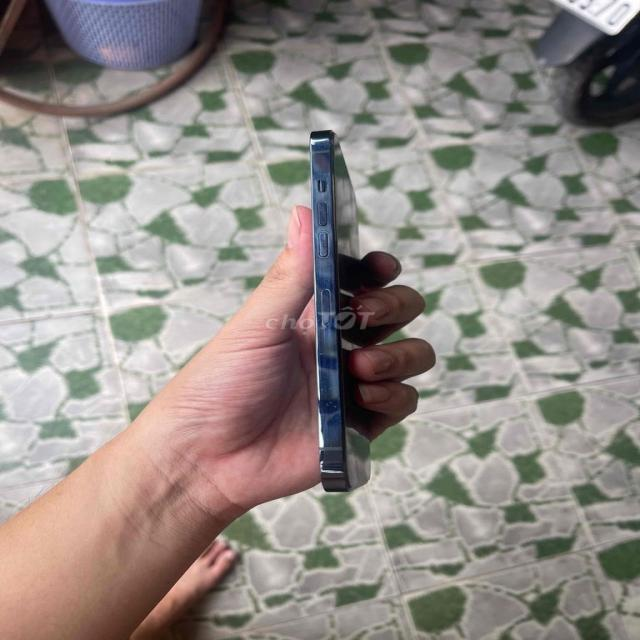gen_12_13: (297, 119, 380, 507)
